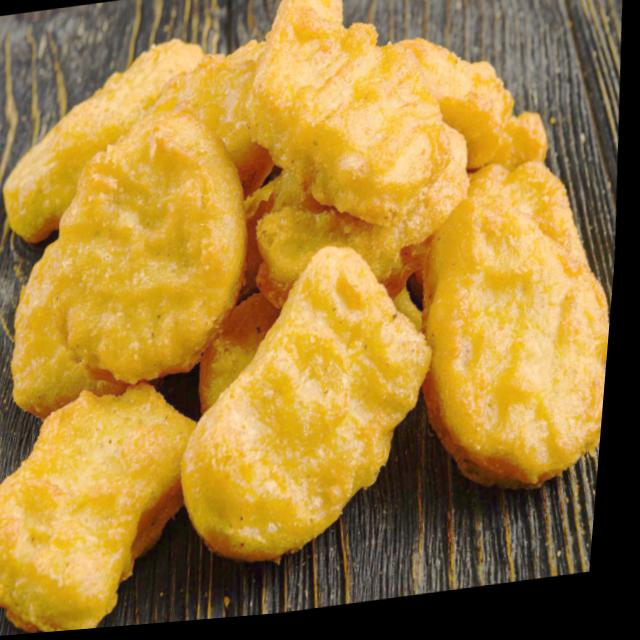chicken_nuggets: (158, 194, 462, 582), (0, 90, 277, 419), (404, 144, 624, 514), (0, 347, 233, 640), (231, 0, 471, 254)
